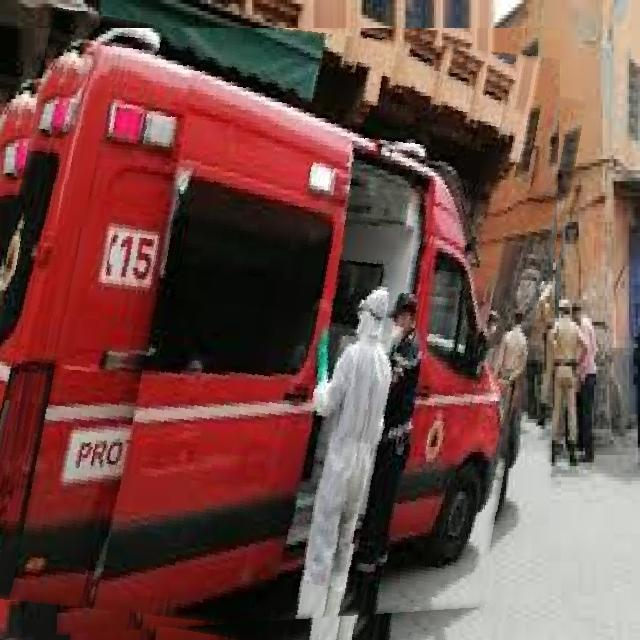ambulance: (0, 28, 562, 640)
